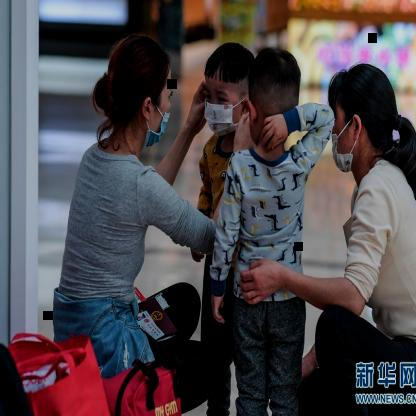mask: (321, 53, 398, 182), (95, 32, 175, 152), (196, 39, 254, 140)
